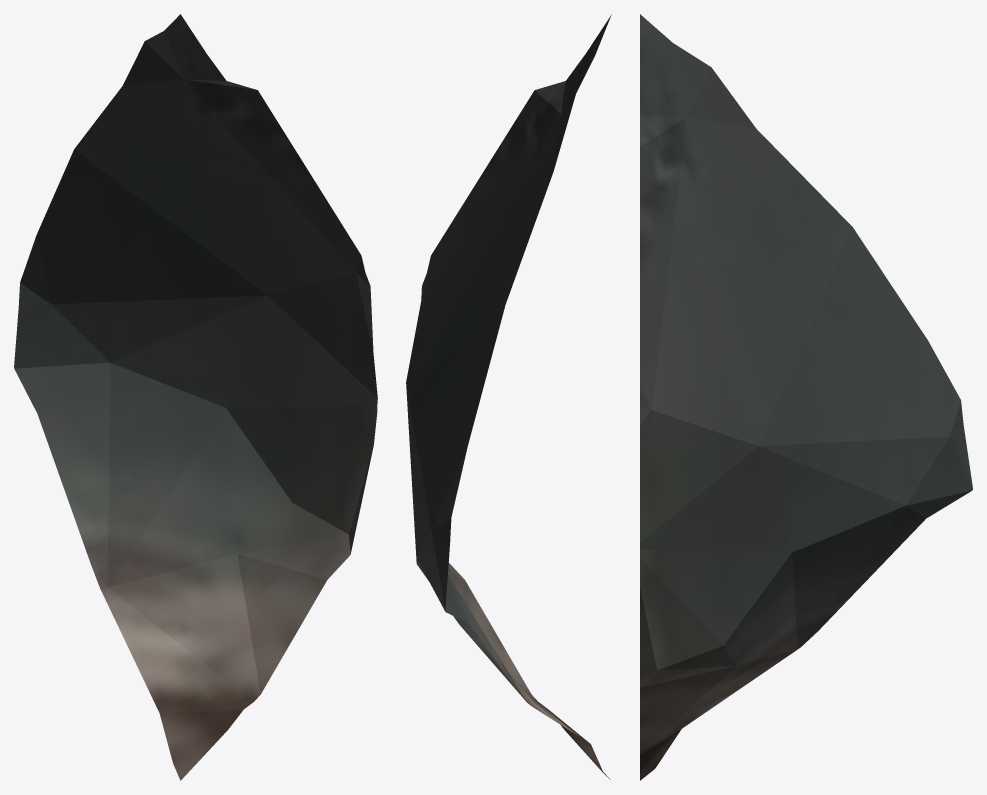
The picture shows the model from 3 angles, left to right: view 1: azimuth 30°, elevation 25°; view 2: azimuth 150°, elevation 25°; view 3: azimuth 270°, elevation 25°; orthographic projection.
Size of the model in its own units: 0.0705 by 0.2618 by 0.103.
1 material, 1 textured.
